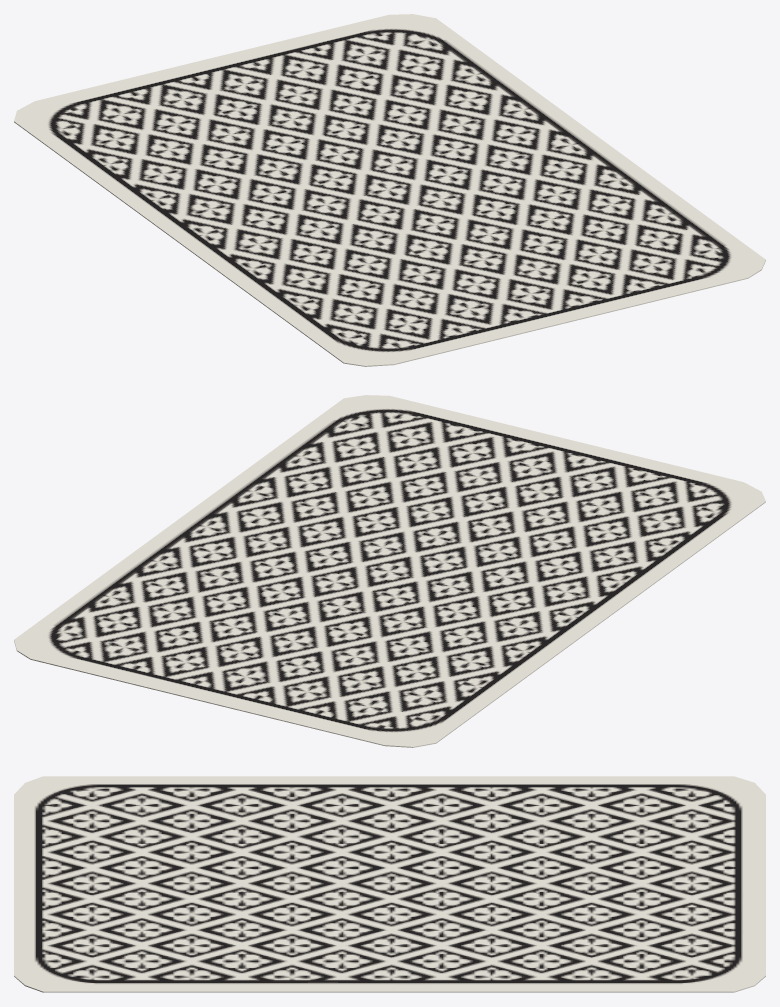
Rendered from AceOfSpadesUV.fbx.
3 views of the same model, one above another, from view 1: azimuth 30°, elevation 25°; view 2: azimuth 150°, elevation 25°; view 3: azimuth 270°, elevation 25° (orthographic). The views are drawn at different scales.
Visible parts, largest first — view 1: pPlane4; view 2: pPlane4; view 3: pPlane4.
Boxes of the visible parts, x1,y1,x2,y2 form: pPlane4: (14,14,765,366); pPlane4: (14,395,765,747); pPlane4: (14,776,765,992).
Bounding box in the file's own units: 5.32 × 0.0116 × 7.84.
